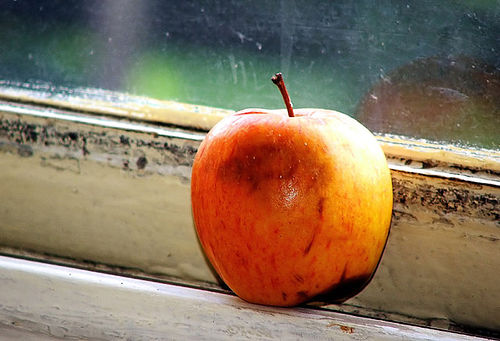apple: (190, 72, 394, 308)
